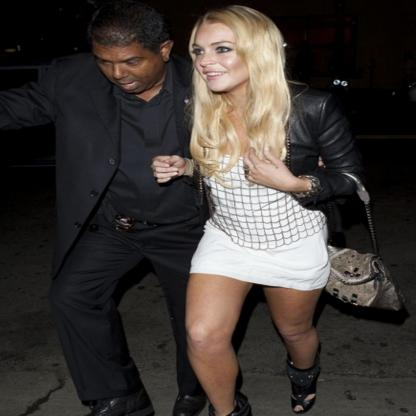face: (196, 26, 251, 95), (98, 38, 155, 96)
